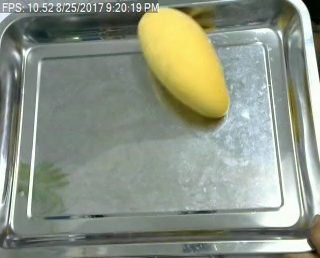Mango: (139, 4, 233, 121)
